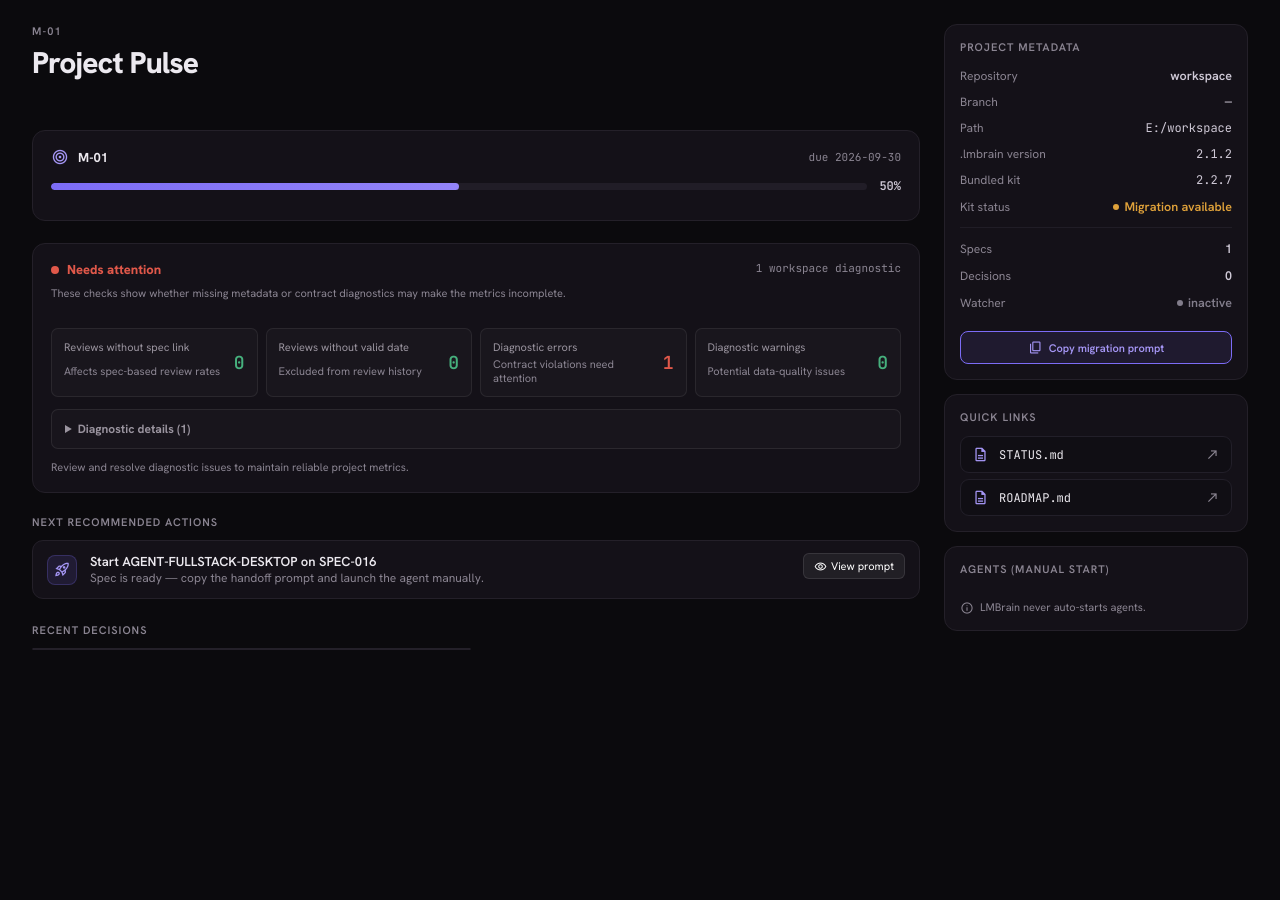
Test: ProjectPulse Diagnostics Fix Prompt › reveals and copies a manual handoff prompt without writing project state
Click the button "View prompt": (854, 566) [803,553,905,579]
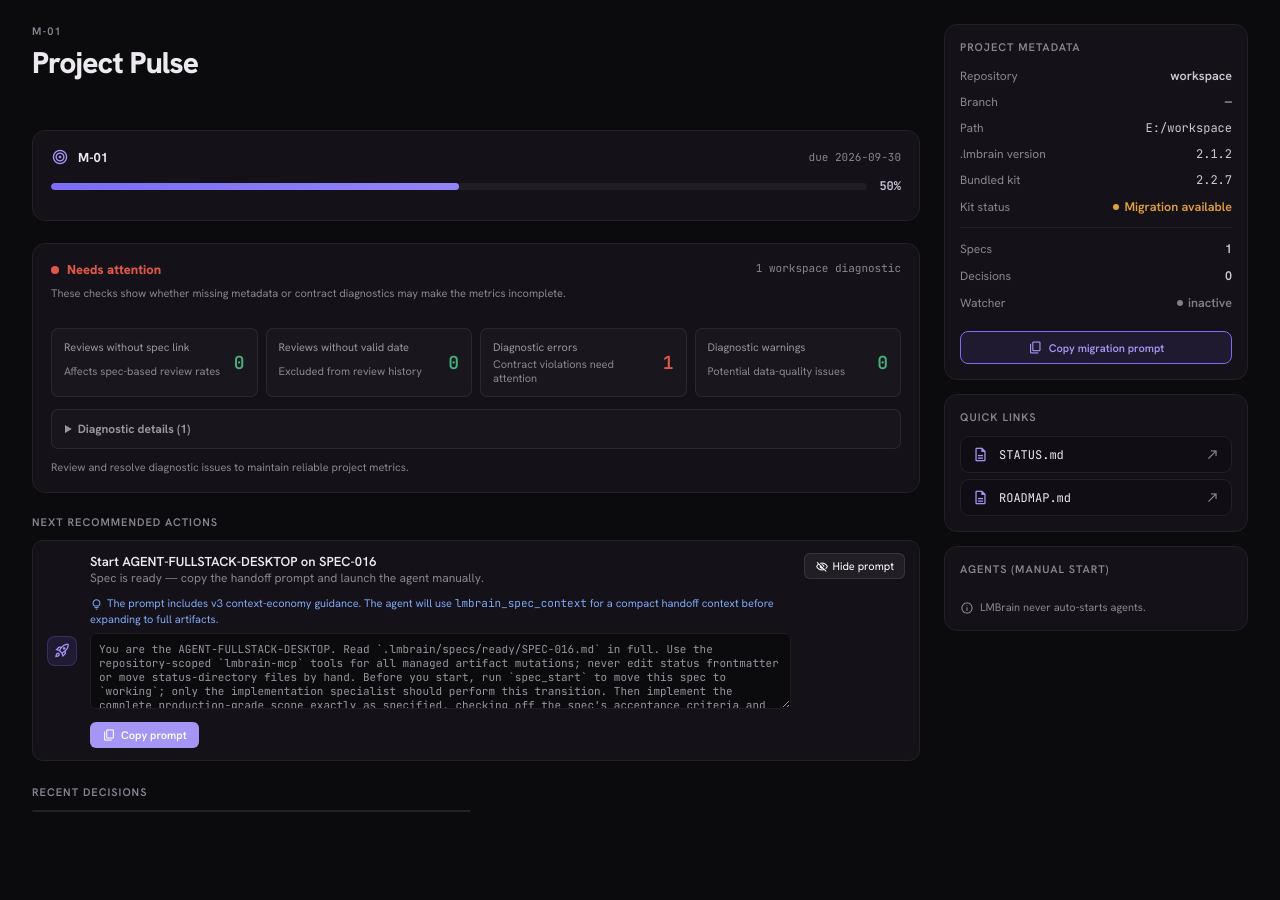
Click the button "Copy prompt": (144, 735) [90,722,199,748]
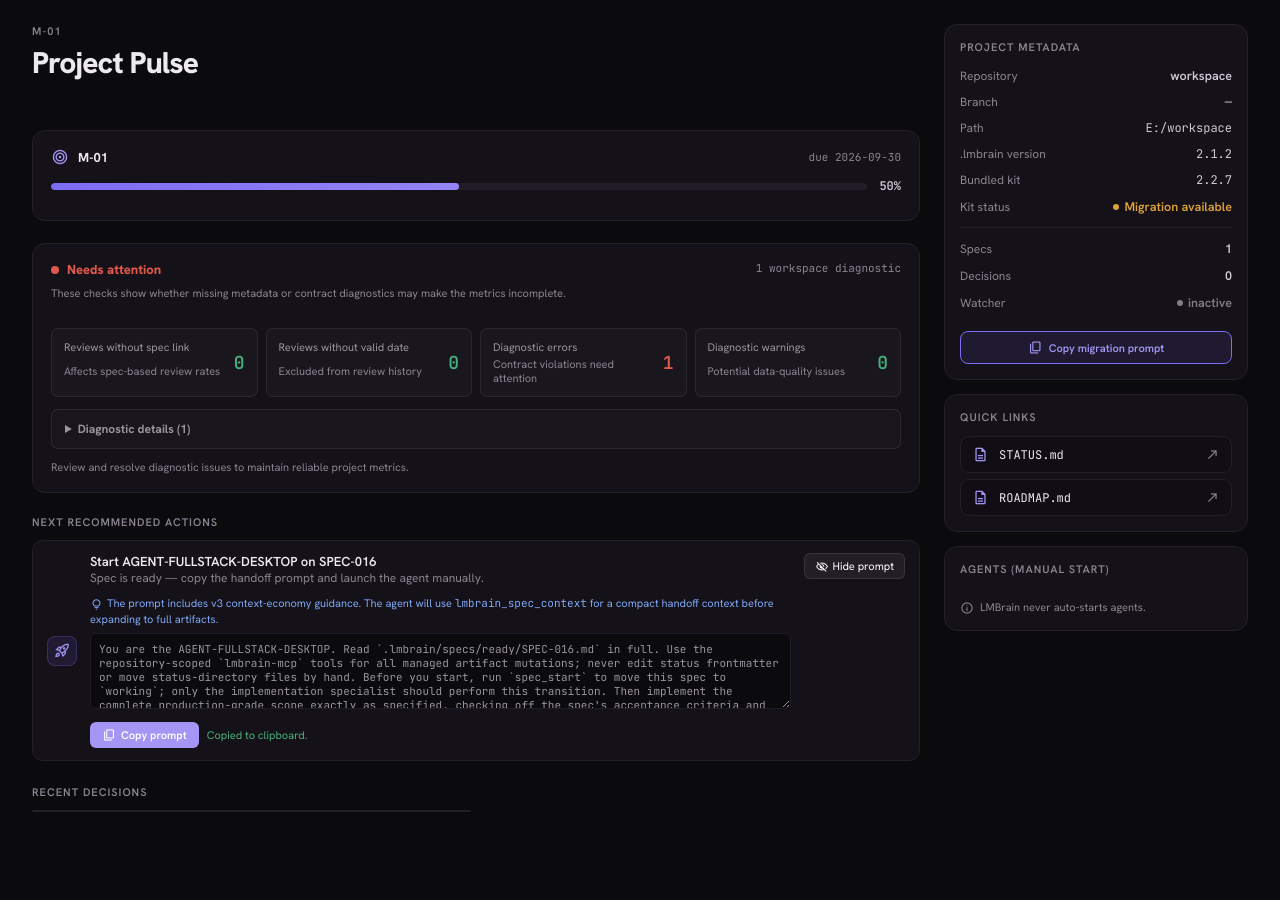
Result: the text "Copied to clipboard." is shown at [207,728,308,742]
